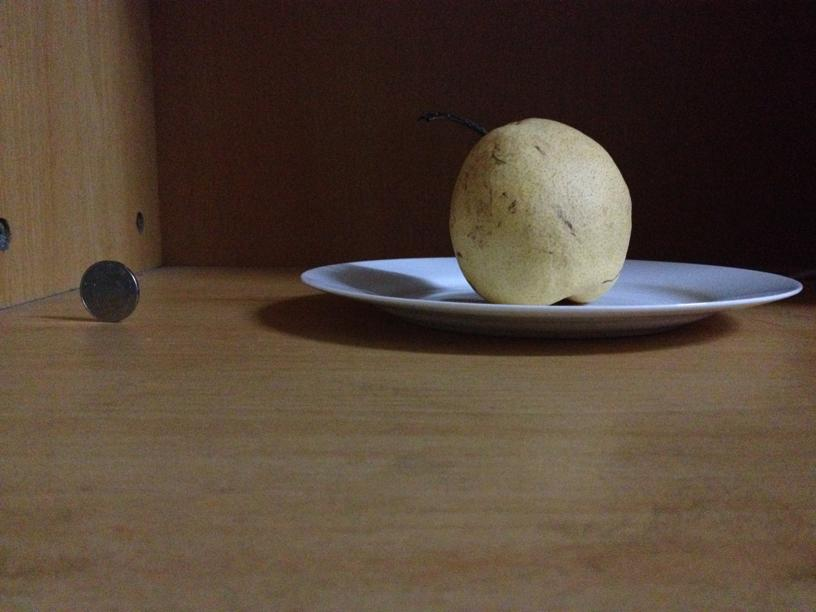coin: (81, 261, 142, 324)
pear: (443, 119, 633, 308)
